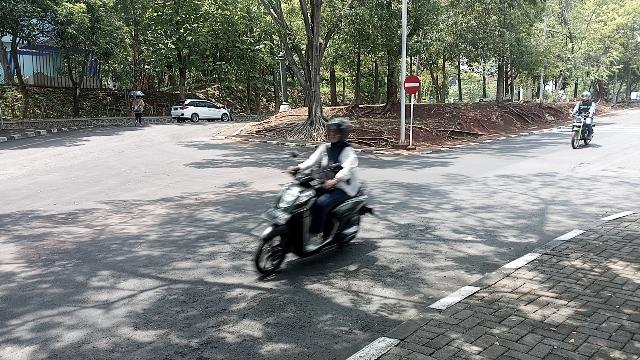helm: (327, 119, 351, 144)
motor: (257, 172, 373, 276), (574, 114, 595, 148), (583, 92, 593, 102)
